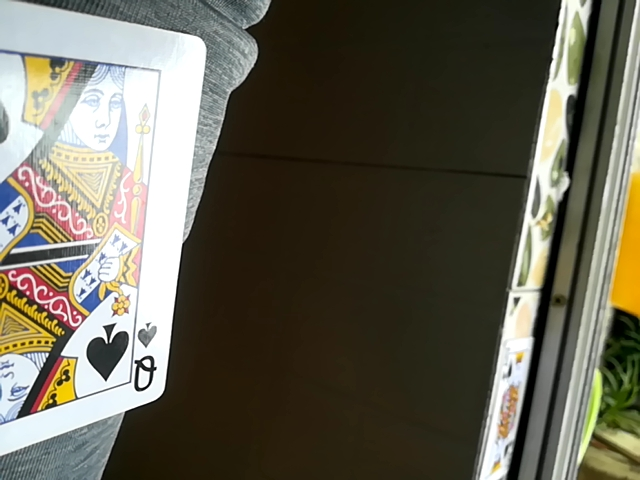ht q: (0, 2, 200, 470)
